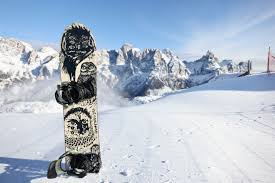snowboard: (58, 21, 103, 176)
